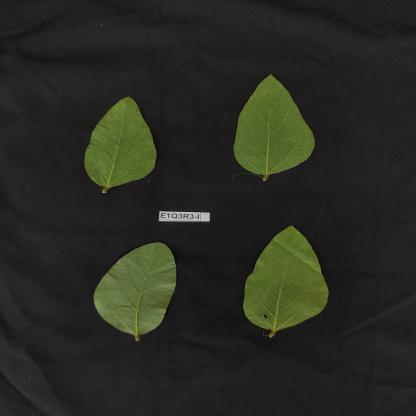label: (154, 207, 220, 233)
leaflets: (222, 61, 320, 192), (236, 222, 340, 344), (89, 236, 189, 358), (76, 86, 165, 189)
